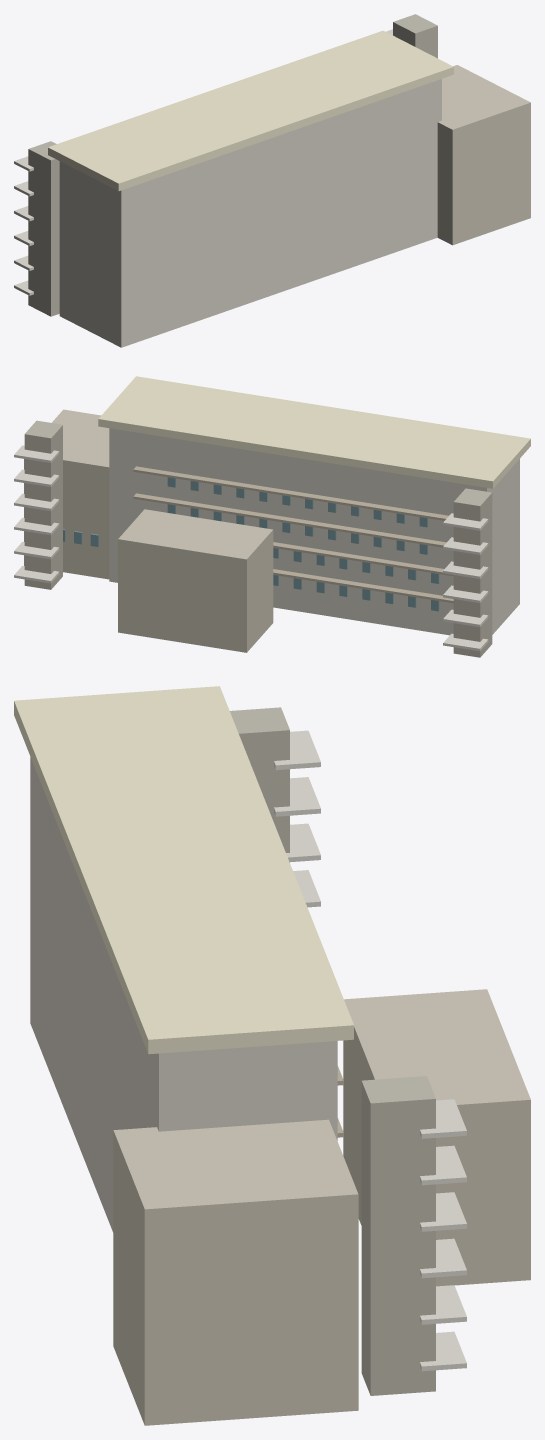
Rendered from manwoo-overview.glb.
The picture shows the model from 3 angles, top to bottom: view 1: azimuth 30°, elevation 25°; view 2: azimuth 150°, elevation 25°; view 3: azimuth 270°, elevation 25°; orthographic projection. The views are drawn at different scales.
Bounding box in the file's own units: 43.82 × 14.96 × 22.14.
